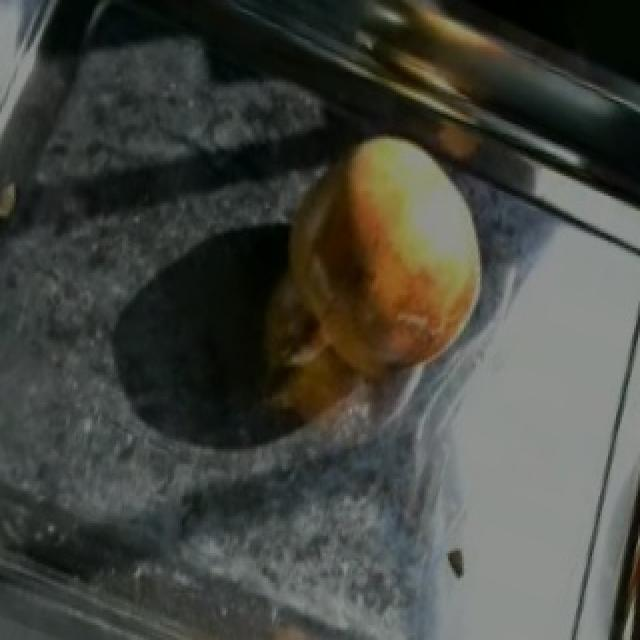fruit: (262, 104, 518, 402)
